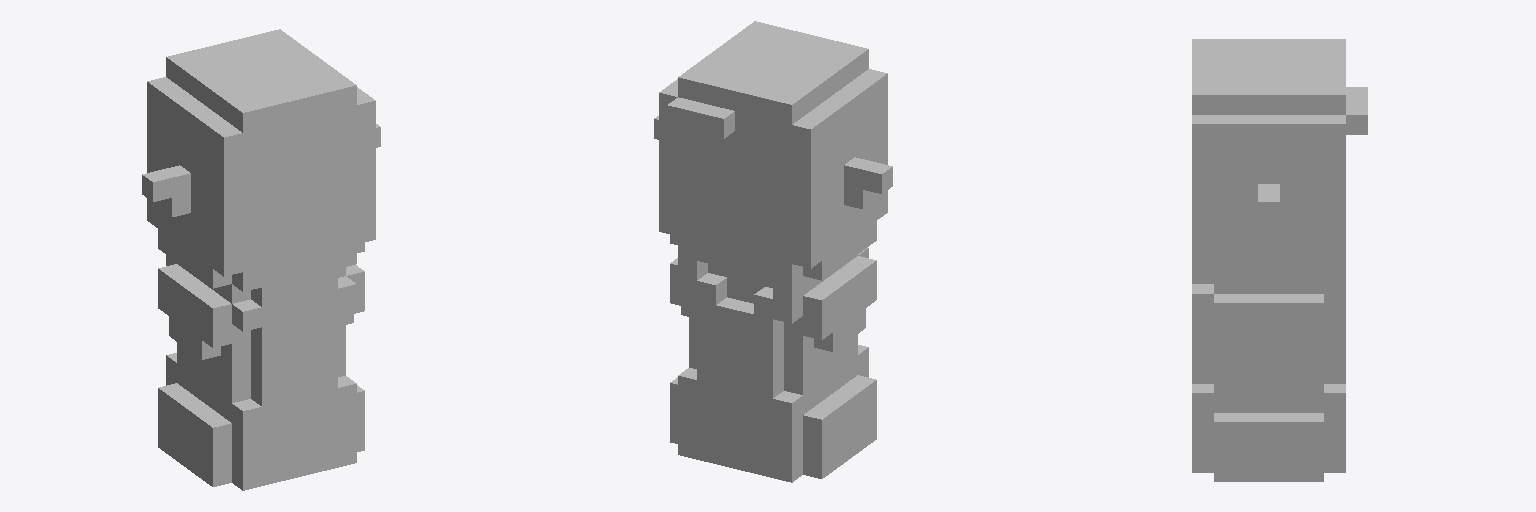
File: body.obj
3 views of the same model, side by side, from view 1: azimuth 30°, elevation 25°; view 2: azimuth 150°, elevation 25°; view 3: azimuth 270°, elevation 25° (orthographic).
Bounding box in the file's own units: 12 × 19 × 8.